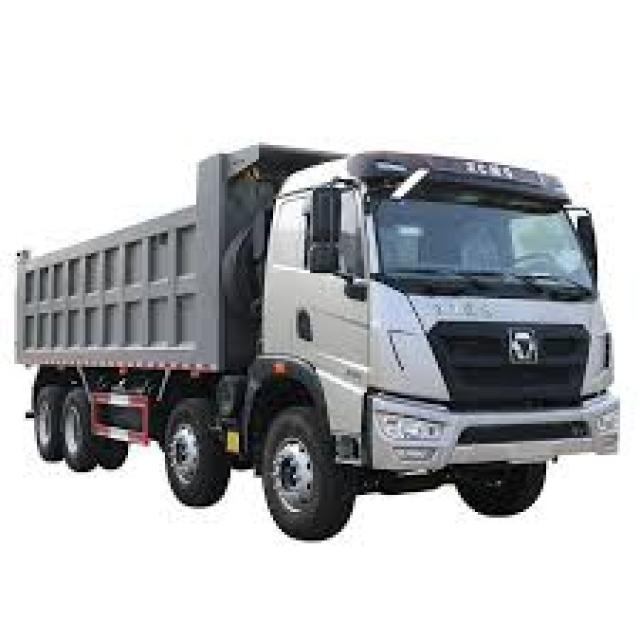dump_truck: (10, 133, 621, 548)
